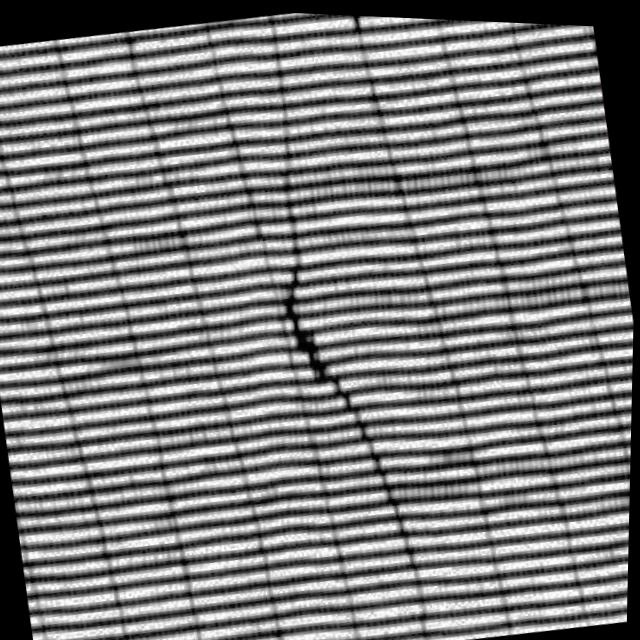Stitch: (221, 166, 442, 567)
